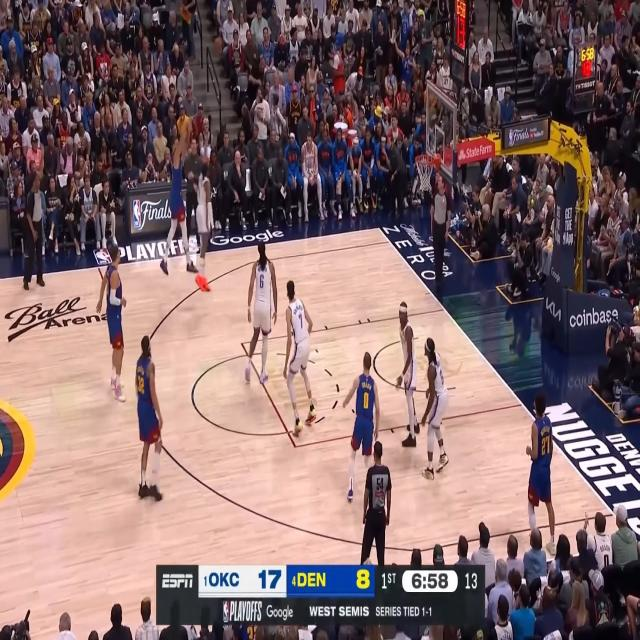ball: (214, 33, 224, 57)
number: (540, 432, 551, 455), (138, 372, 146, 395), (363, 389, 370, 411), (298, 311, 303, 328), (260, 271, 264, 289), (440, 369, 444, 385)
player: (343, 350, 380, 504), (134, 334, 166, 501), (524, 395, 557, 556), (243, 237, 279, 384), (98, 243, 130, 401), (284, 278, 316, 436), (421, 336, 449, 480), (394, 301, 419, 448)
player-jump-shot: (158, 120, 198, 274)
player-shot-block: (193, 123, 214, 294)
referee: (361, 440, 394, 567), (23, 170, 46, 288), (429, 174, 452, 290)
rim: (415, 152, 435, 166)
